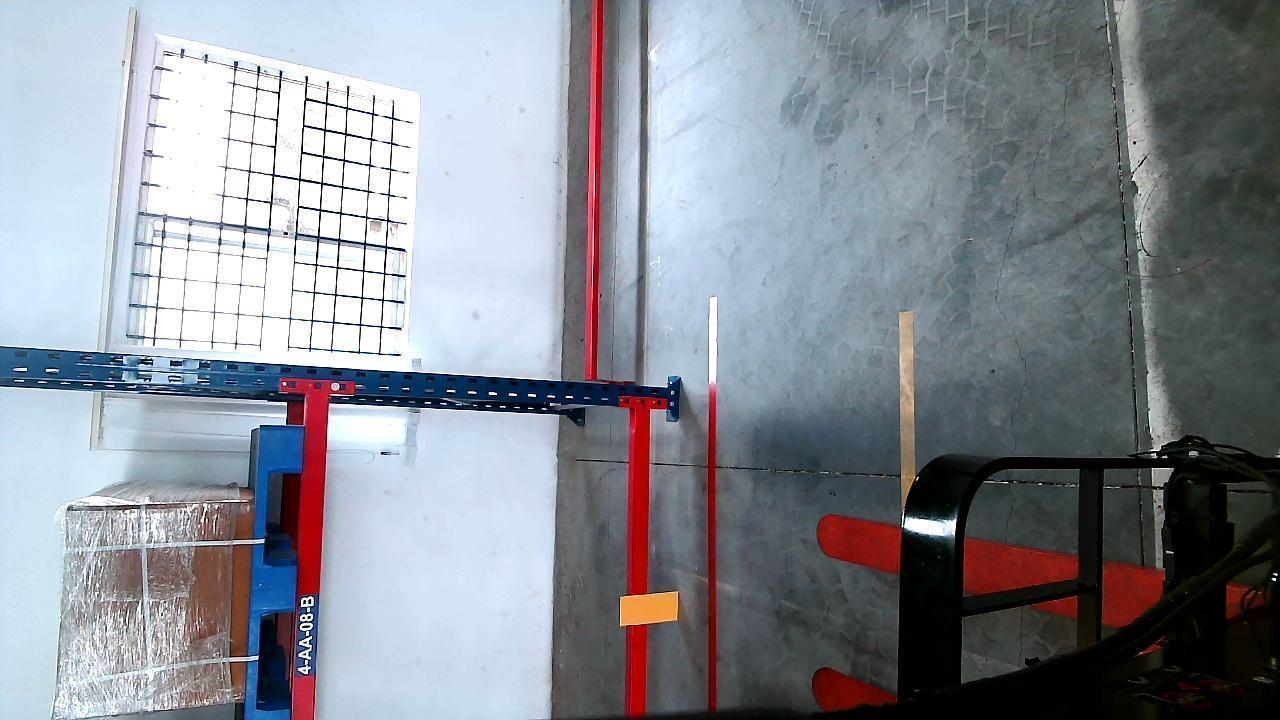red_line: (699, 292, 726, 720)
yellow_line: (898, 310, 915, 508)
